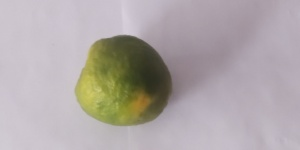BAD: (76, 33, 172, 128)
